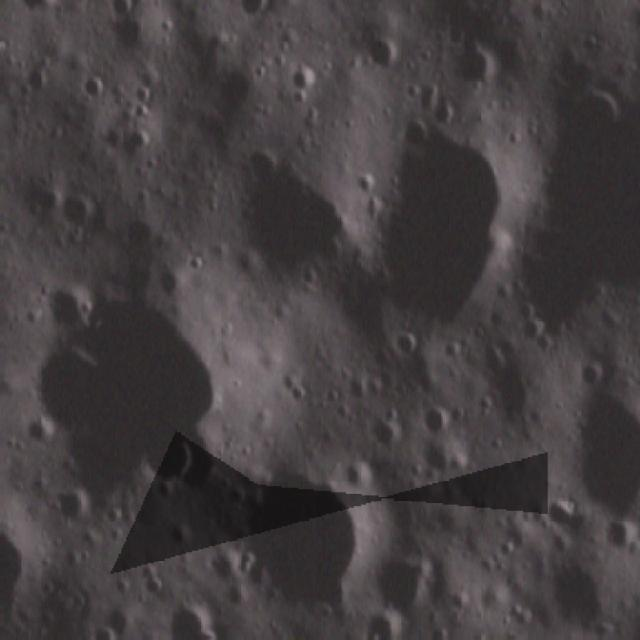crater: (22, 284, 223, 499), (494, 67, 640, 348), (354, 116, 512, 333), (223, 460, 380, 629), (236, 136, 362, 302), (547, 379, 640, 530), (533, 544, 617, 640), (0, 517, 48, 640), (367, 556, 442, 626), (152, 601, 226, 640), (56, 187, 101, 247), (213, 64, 264, 116), (412, 439, 466, 488), (447, 44, 501, 90), (414, 396, 458, 444), (19, 180, 63, 226), (282, 58, 326, 102), (368, 413, 406, 462), (359, 32, 398, 78), (352, 612, 410, 640), (77, 615, 131, 640), (1, 0, 62, 22), (76, 74, 106, 112), (236, 0, 279, 26), (121, 123, 150, 159), (107, 0, 136, 22)
